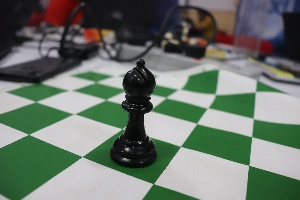black_bishop: (113, 53, 164, 170)
